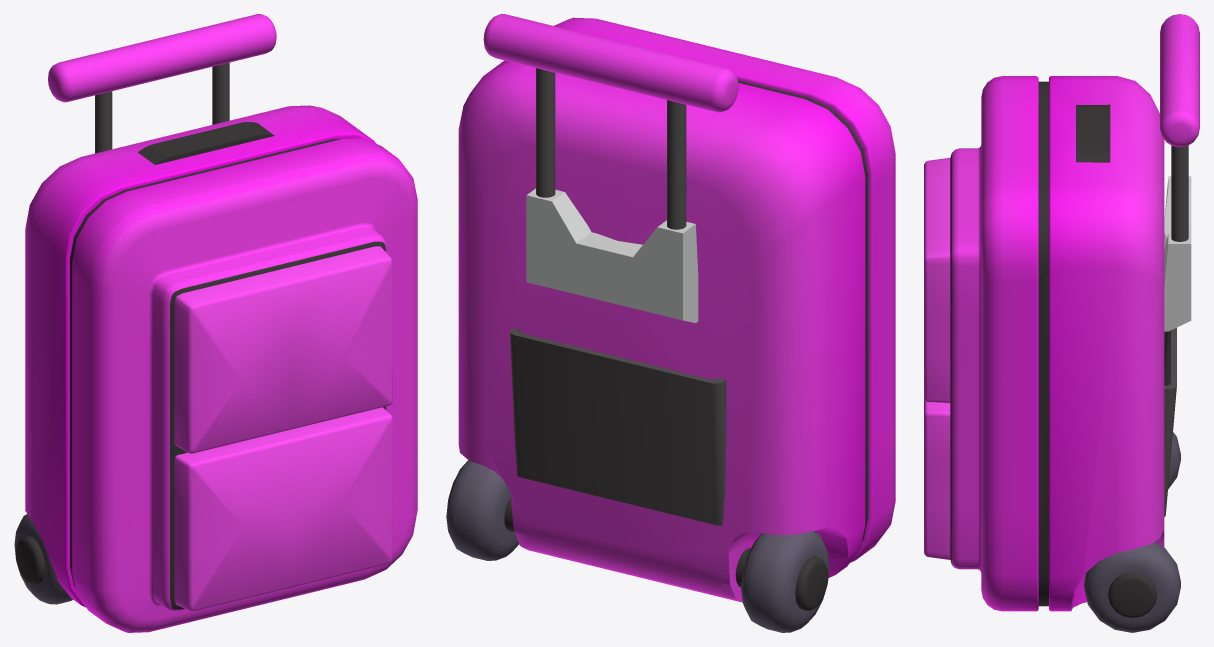
The model's file is Baggage_4_Pink.fbx.
3 renders of one model, left to right at view 1: azimuth 30°, elevation 25°; view 2: azimuth 150°, elevation 25°; view 3: azimuth 270°, elevation 25°, orthographic. The views are drawn at different scales.
Visible parts, largest first — view 1: Baggage_4_Pink; view 2: Baggage_4_Pink; view 3: Baggage_4_Pink.
Part boxes in pixels (<box>): Baggage_4_Pink: <box>14,14,417,632</box>; Baggage_4_Pink: <box>446,14,895,632</box>; Baggage_4_Pink: <box>924,14,1199,632</box>.
Size of the model in its own units: 62.48 by 93.72 by 46.68.
